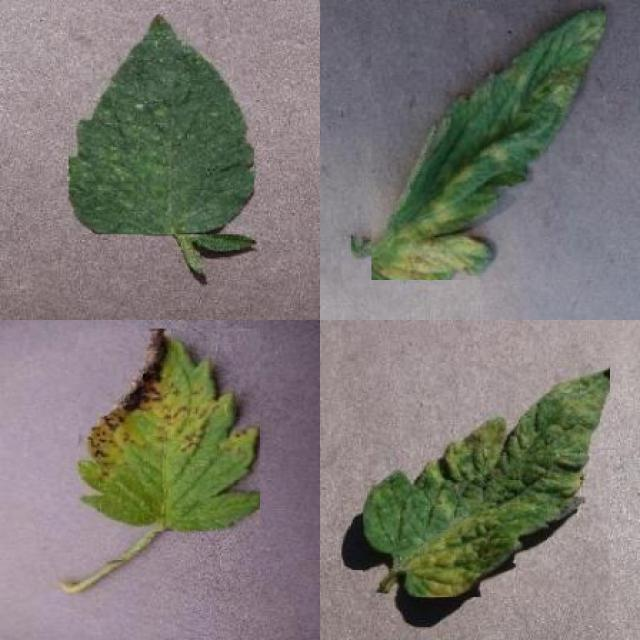Leaf Mold: (372, 10, 605, 280), (363, 363, 610, 597)
Septoria: (79, 329, 260, 531)
Spider Mites: (68, 15, 255, 235)
